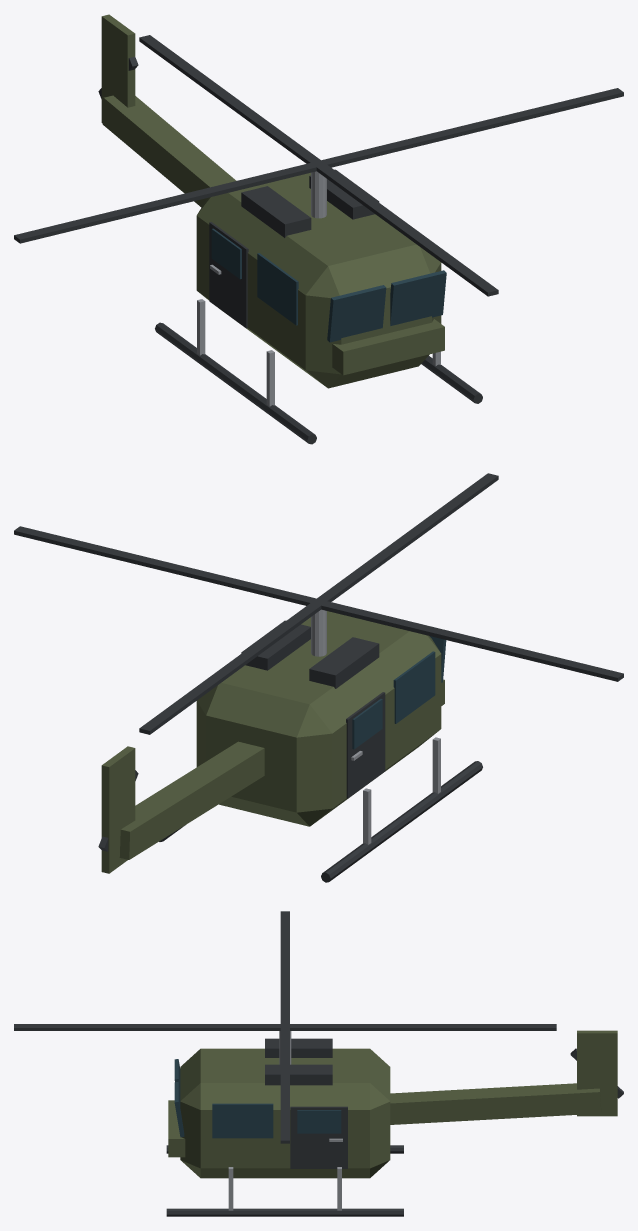
The model's file is UtilityHelicopter.fbx.
The picture shows the model from 3 angles, top to bottom: view 1: azimuth 30°, elevation 25°; view 2: azimuth 150°, elevation 25°; view 3: azimuth 270°, elevation 25°; orthographic projection. The views are drawn at different scales.
Parts seen in each view (by area): view 1: Heli_Fuselage, Heli_Rotor, Heli_Tail, Heli_Rotor.001, Heli_Nose, Heli_Fin, Heli_Windshield, Heli_Windshield.001, Heli_Skid, Heli_Door, Heli_Engine, Heli_SideWindow (+4 smaller); view 2: Heli_Fuselage, Heli_Tail, Heli_Rotor, Heli_Rotor.001, Heli_Fin, Heli_Door, Heli_Skid, Heli_Engine, Heli_SideWindow, Heli_Engine.001, Heli_DoorWindow, Heli_RotorMast; view 3: Heli_Fuselage, Heli_Tail, Heli_Rotor.001, Heli_Fin, Heli_Door.001, Heli_Rotor, Heli_SideWindow.001, Heli_Skid.001, Heli_Engine.001, Heli_Engine, Heli_DoorWindow.001, Heli_Nose.
Boxes of the visible parts, x1,y1,x2,y2 form: Heli_Fuselage: [196, 172, 441, 388]; Heli_Rotor: [14, 88, 623, 243]; Heli_Tail: [102, 95, 236, 207]; Heli_Rotor.001: [139, 35, 498, 296]; Heli_Nose: [332, 319, 444, 375]; Heli_Fin: [101, 14, 135, 123]; Heli_Windshield: [327, 285, 386, 342]; Heli_Windshield.001: [390, 270, 446, 325]; Heli_Skid: [155, 322, 316, 444]; Heli_Door: [209, 222, 248, 328]; Heli_Engine: [241, 186, 311, 237]; Heli_SideWindow: [257, 253, 298, 325]; Heli_Fuselage: [196, 611, 441, 826]; Heli_Tail: [119, 741, 264, 859]; Heli_Rotor: [14, 526, 623, 681]; Heli_Rotor.001: [139, 473, 498, 734]; Heli_Fin: [101, 746, 135, 873]; Heli_Door: [346, 692, 385, 798]; Heli_Skid: [321, 761, 482, 882]; Heli_Engine: [309, 637, 379, 688]; Heli_SideWindow: [393, 651, 435, 723]; Heli_Engine.001: [241, 620, 310, 670]; Heli_DoorWindow: [352, 699, 382, 749]; Heli_RotorMast: [311, 609, 326, 656]; Heli_Fuselage: [180, 1048, 390, 1178]; Heli_Tail: [390, 1083, 601, 1124]; Heli_Rotor.001: [14, 1024, 556, 1030]; Heli_Fin: [577, 1030, 617, 1116]; Heli_Door.001: [290, 1106, 347, 1168]; Heli_Rotor: [280, 911, 289, 1143]; Heli_SideWindow.001: [212, 1103, 273, 1138]; Heli_Skid.001: [166, 1208, 403, 1216]; Heli_Engine.001: [265, 1064, 332, 1085]; Heli_Engine: [265, 1038, 332, 1057]; Heli_DoorWindow.001: [297, 1110, 341, 1133]; Heli_Nose: [168, 1100, 185, 1157].
Size of the model in its own units: 1600 by 518 by 1798.
